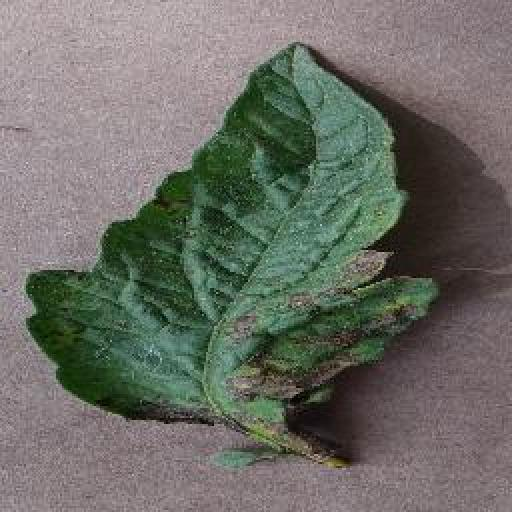Early Blight: (30, 40, 444, 479)
